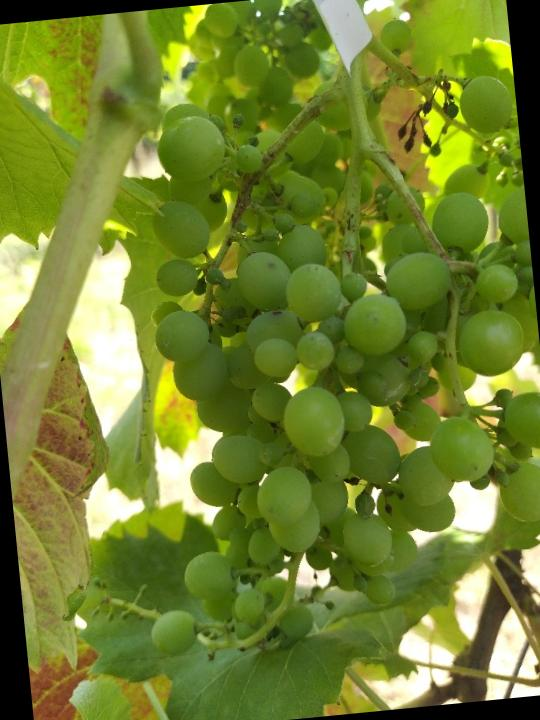grape: (94, 67, 540, 674)
